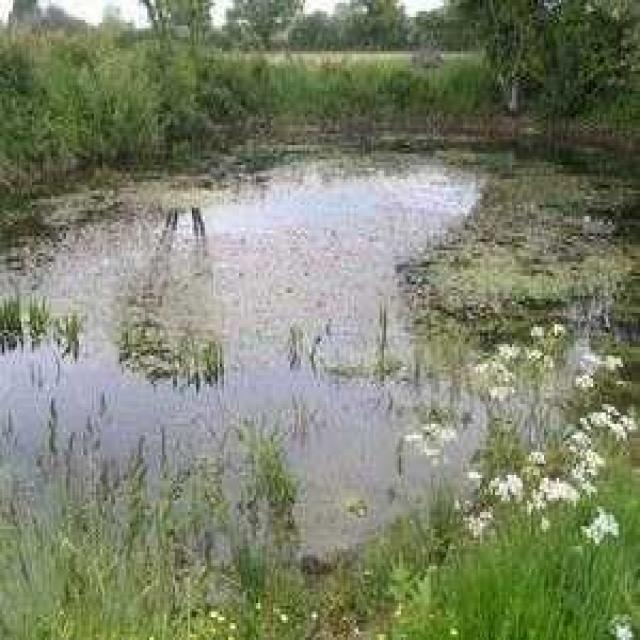Ponds: (8, 117, 640, 583)
